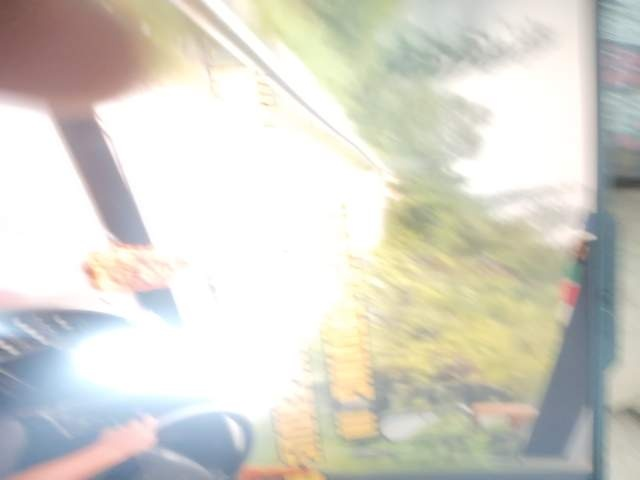pothole: (319, 326, 419, 406)
